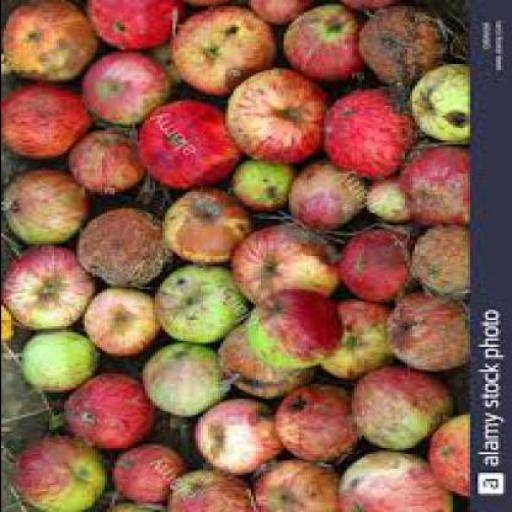biodegradable: (167, 8, 275, 99), (222, 72, 323, 166), (133, 101, 237, 192), (224, 223, 336, 305), (345, 370, 446, 452), (212, 320, 315, 400), (318, 93, 411, 181), (1, 2, 94, 88), (73, 208, 167, 289), (1, 247, 91, 331), (149, 266, 242, 347), (331, 449, 449, 511), (244, 293, 340, 369), (353, 8, 442, 89), (159, 188, 250, 266), (312, 302, 398, 384), (379, 294, 467, 374), (189, 402, 280, 479), (76, 53, 166, 130), (9, 437, 102, 511), (267, 388, 358, 462), (134, 347, 224, 419), (0, 89, 89, 161), (0, 172, 84, 248), (63, 378, 151, 450), (280, 4, 361, 82), (336, 227, 414, 306), (396, 148, 467, 230), (62, 132, 142, 196), (285, 165, 359, 234), (81, 2, 179, 53), (80, 291, 154, 358), (401, 68, 464, 142), (108, 446, 182, 505), (249, 464, 336, 511), (406, 227, 464, 297), (421, 417, 466, 500), (22, 337, 94, 388), (226, 163, 293, 215), (161, 472, 245, 510), (361, 180, 406, 226), (242, 2, 320, 26), (338, 2, 393, 20), (172, 2, 227, 10), (2, 306, 8, 344)
